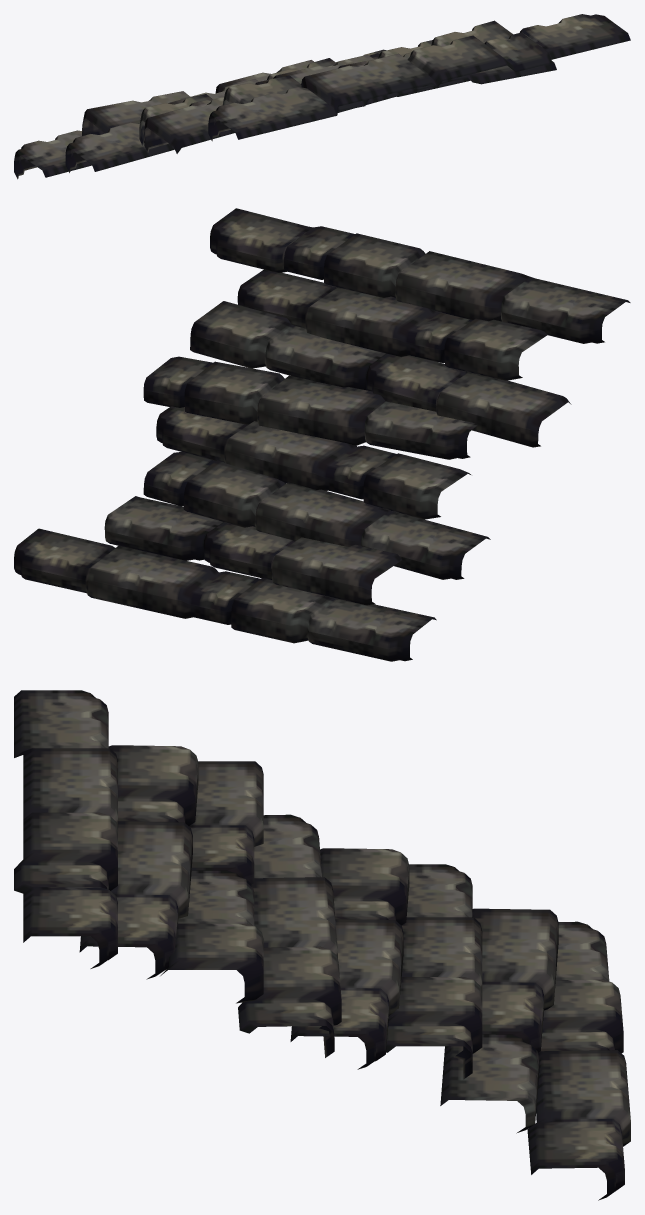
The model's file is EnvObjMD_Stairs_B_Small.FBX.
3 views of the same model, one above another, from view 1: azimuth 30°, elevation 25°; view 2: azimuth 150°, elevation 25°; view 3: azimuth 270°, elevation 25° (orthographic). The views are drawn at different scales.
Parts seen in each view (by area): view 1: EnvObjMD_Stairs_B_Small; view 2: EnvObjMD_Stairs_B_Small; view 3: EnvObjMD_Stairs_B_Small.
Boxes of the visible parts, bbox=[...] form: EnvObjMD_Stairs_B_Small: bbox=[14, 14, 630, 179]; EnvObjMD_Stairs_B_Small: bbox=[14, 208, 630, 661]; EnvObjMD_Stairs_B_Small: bbox=[14, 690, 630, 1200].
Size of the model in its own units: 403 by 205 by 424.
